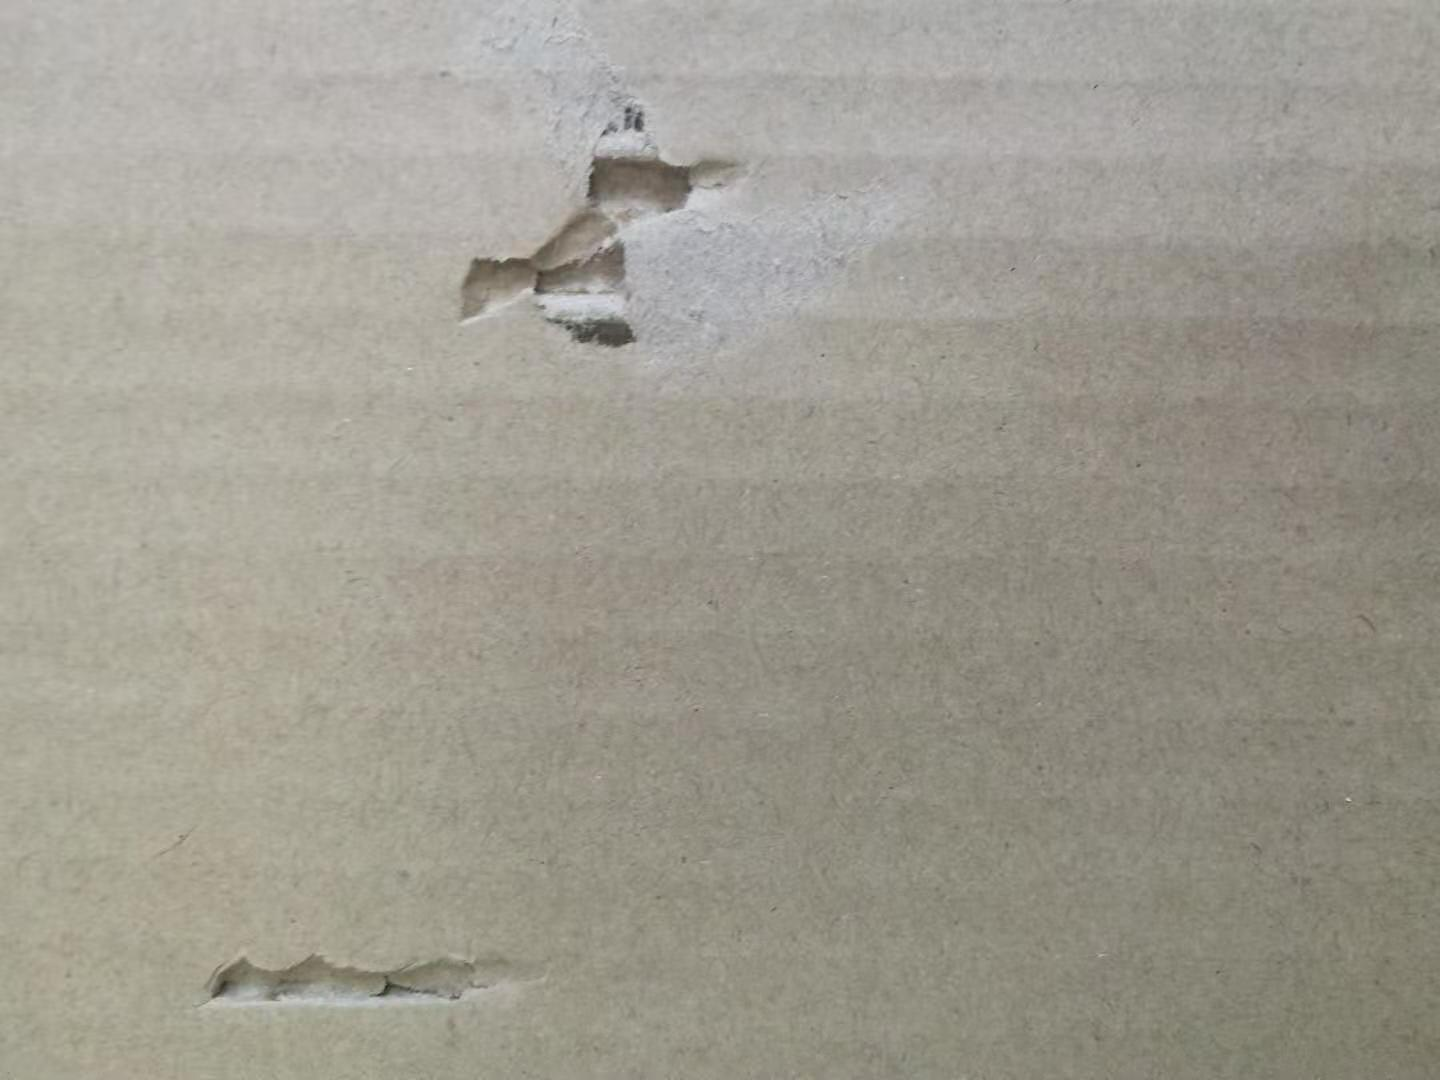defect: (398, 1, 979, 400), (179, 902, 600, 1047)
